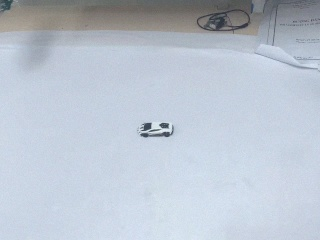toy_car: (138, 122, 174, 137)
